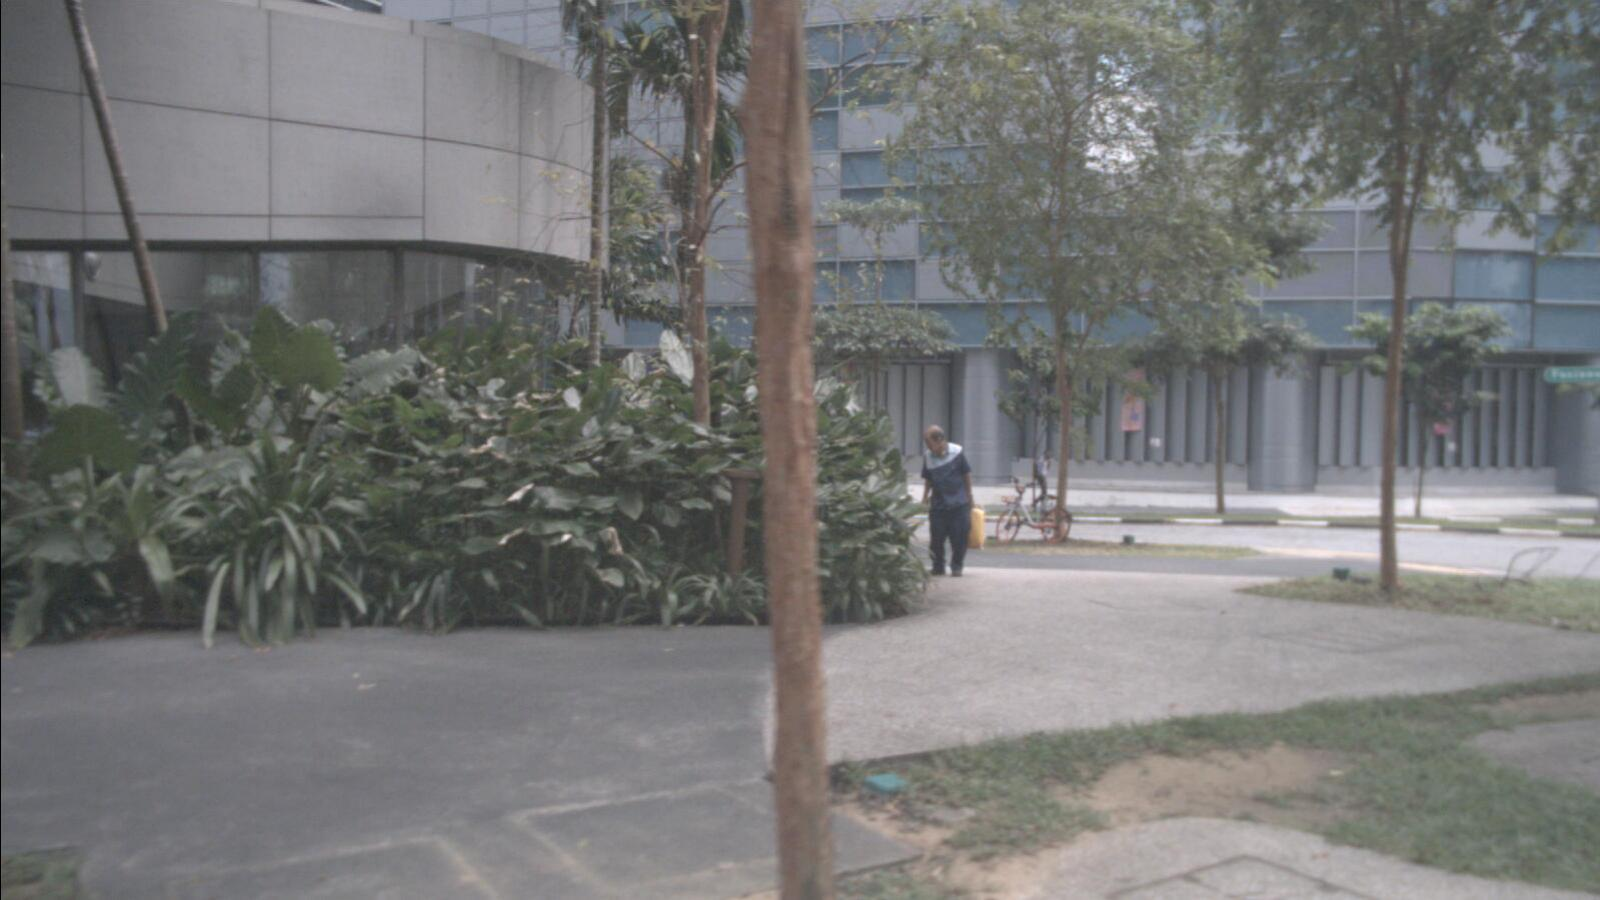human.pedestrian.adult-pedestrian.moving: (1029, 449, 1054, 515)
human.pedestrian.adult-pedestrian.standing: (915, 425, 987, 578)
